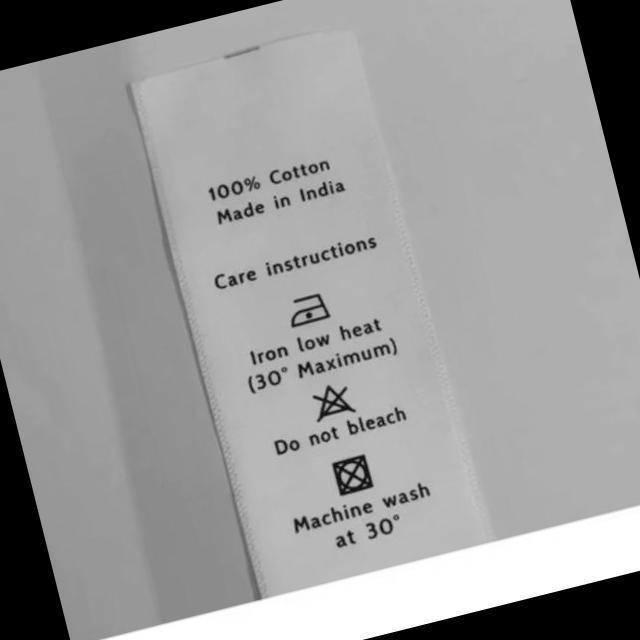DN_bleach: (304, 375, 362, 426)
DN_tumble_dry: (326, 449, 379, 502)
iron_low: (279, 285, 335, 333)
